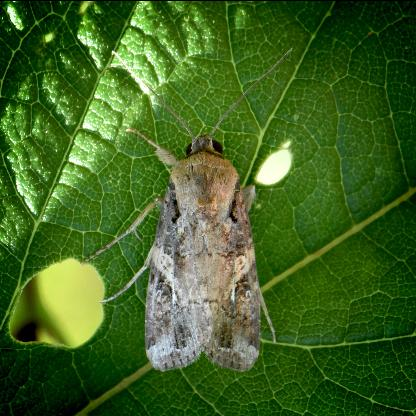Fall Armyworm Moth: (76, 45, 298, 375)
